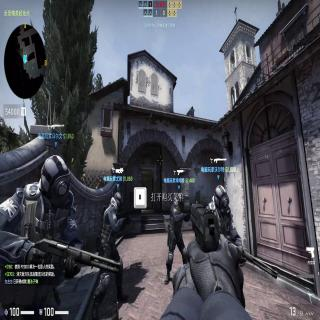CT-Body: (92, 192, 128, 317)
CT-Head: (40, 155, 74, 221), (213, 185, 231, 218), (113, 192, 124, 211)
